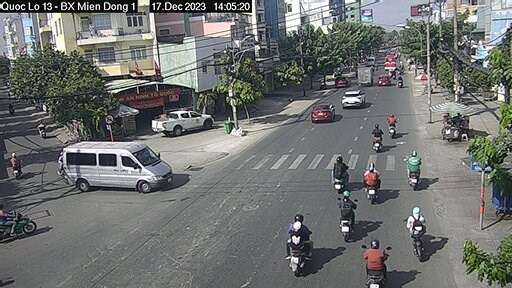car: (62, 140, 172, 194), (151, 110, 215, 138), (310, 102, 335, 124), (341, 91, 365, 109), (334, 73, 352, 89), (378, 73, 392, 88)
motorbike: (284, 215, 317, 274), (361, 241, 390, 287), (359, 162, 384, 205), (338, 190, 357, 239), (405, 147, 423, 191), (331, 155, 350, 191), (371, 122, 385, 151), (9, 149, 22, 179), (387, 112, 398, 141)
truck: (357, 65, 375, 88)
